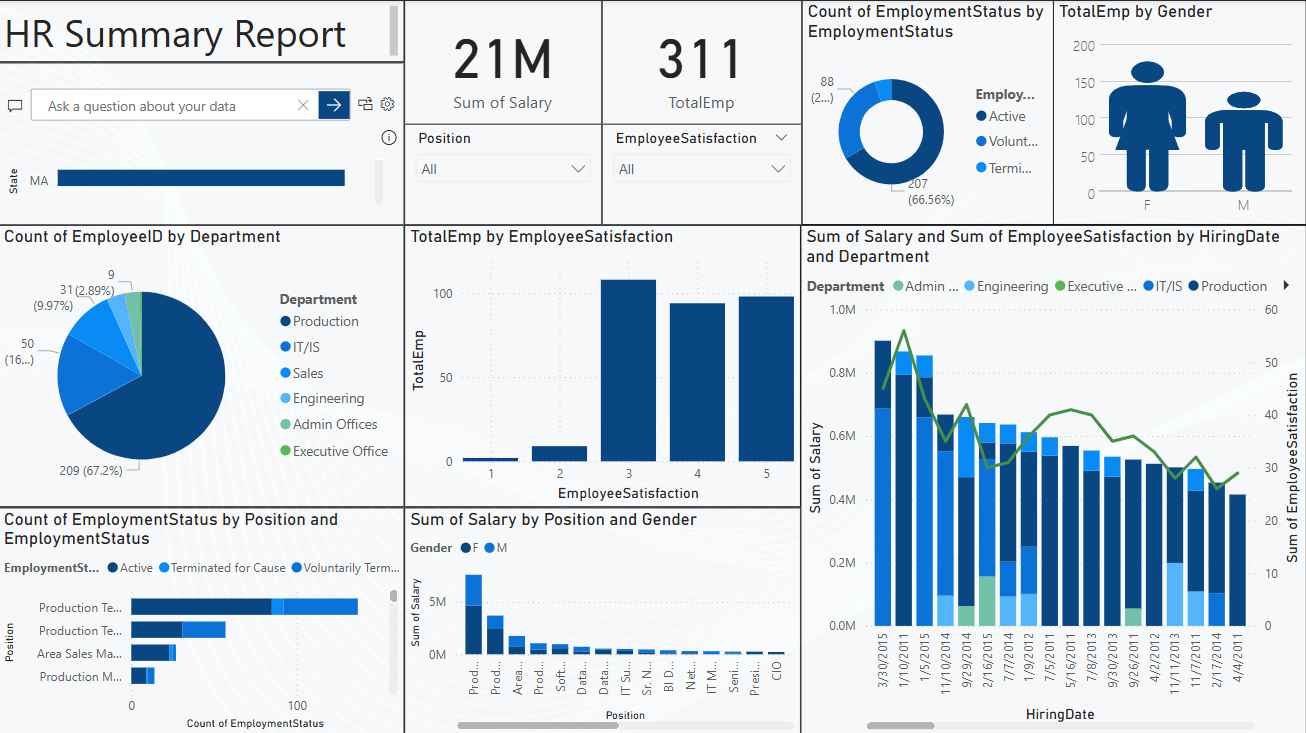

The page's visual inventory and layout, read from the dashboard file:
{"tool":"powerbi","page":{"name":"Page 1","canvas":[1280,720],"ordinal":0},"visuals":[{"type":"barChart","fields":{"Category":["HRData.Position"],"Y":["CountNonNull(HRData.EmploymentStatus)"],"Series":["HRData.EmploymentStatus"]},"box":[0,496.5,397.4,223.8],"z":0},{"type":"columnChart","fields":{"Category":["HRData.Position"],"Y":["Sum(HRData.Salary)"],"Series":["HRData.Gender"]},"box":[397.4,496.5,387.6,223.8],"z":1000},{"type":"lineStackedColumnComboChart","fields":{"Category":["HRData.HiringDate"],"Y":["Sum(HRData.Salary)"],"Series":["HRData.Department"],"Y2":["Sum(HRData.EmployeeSatisfaction)"]},"box":[785.1,220.1,495.2,500.1],"z":2000},{"type":"pieChart","fields":{"Y":["CountNonNull(HRData.EmployeeID)"],"Category":["HRData.Department"]},"box":[0,220.1,397.4,276.4],"z":3000},{"type":"columnChart","fields":{"Y":["HRData.TotalEmp"],"Category":["HRData.EmployeeSatisfaction"]},"box":[397.4,220.1,387.6,276.4],"z":4000},{"type":"textbox","box":[0,0,397.4,61.1],"z":5000},{"type":"card","fields":{"Values":["Sum(HRData.Salary)"]},"box":[397.4,0,193.2,122.3],"z":6000},{"type":"card","fields":{"Values":["HRData.TotalEmp"]},"box":[590.6,0,195.7,122.3],"z":7000},{"type":"slicer","fields":{"Values":["HRData.Position"]},"box":[397.4,121.1,193.2,99],"z":8000},{"type":"slicer","fields":{"Values":["HRData.EmployeeSatisfaction"]},"box":[590.6,121.1,195.7,99],"z":9000},{"type":"donutChart","fields":{"Category":["HRData.EmploymentStatus"],"Y":["CountNonNull(HRData.EmploymentStatus)"]},"box":[786.3,0,247,220.1],"z":10000},{"type":"PBI_CV_73744D90_4DC9_4F18_8BA5_EE8FA5C98035","fields":{"Category":["HRData.Gender"],"Values":["HRData.TotalEmp"]},"box":[1032.1,0,248.2,220.1],"z":11000},{"type":"qnaVisual","box":[0,61.1,397.4,159],"z":12000}]}

Visuals, with their boxes in screenshot pixels (x1, y1, x2, y2), scaled from the page's 1280x720 canvas onto the 1306x733 screenshot:
barChart - HRData.Position x CountNonNull(HRData.EmploymentStatus): bbox=[0, 505, 405, 732]
columnChart - HRData.Position x Sum(HRData.Salary): bbox=[405, 505, 801, 732]
lineStackedColumnComboChart - HRData.HiringDate x Sum(HRData.Salary): bbox=[801, 224, 1305, 732]
pieChart - CountNonNull(HRData.EmployeeID) x HRData.Department: bbox=[0, 224, 405, 505]
columnChart - HRData.TotalEmp x HRData.EmployeeSatisfaction: bbox=[405, 224, 801, 505]
textbox: bbox=[0, 0, 405, 62]
card - Sum(HRData.Salary): bbox=[405, 0, 603, 125]
card - HRData.TotalEmp: bbox=[603, 0, 802, 125]
slicer - HRData.Position: bbox=[405, 123, 603, 224]
slicer - HRData.EmployeeSatisfaction: bbox=[603, 123, 802, 224]
donutChart - HRData.EmploymentStatus x CountNonNull(HRData.EmploymentStatus): bbox=[802, 0, 1054, 224]
PBI_CV_73744D90_4DC9_4F18_8BA5_EE8FA5C98035 - HRData.Gender x HRData.TotalEmp: bbox=[1053, 0, 1305, 224]
qnaVisual: bbox=[0, 62, 405, 224]
